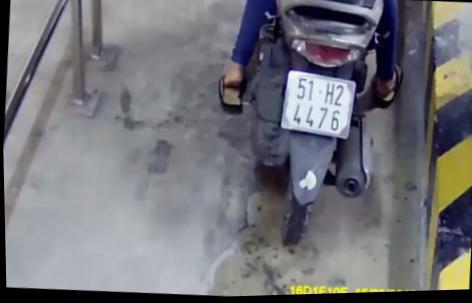LP: (280, 71, 356, 144)
